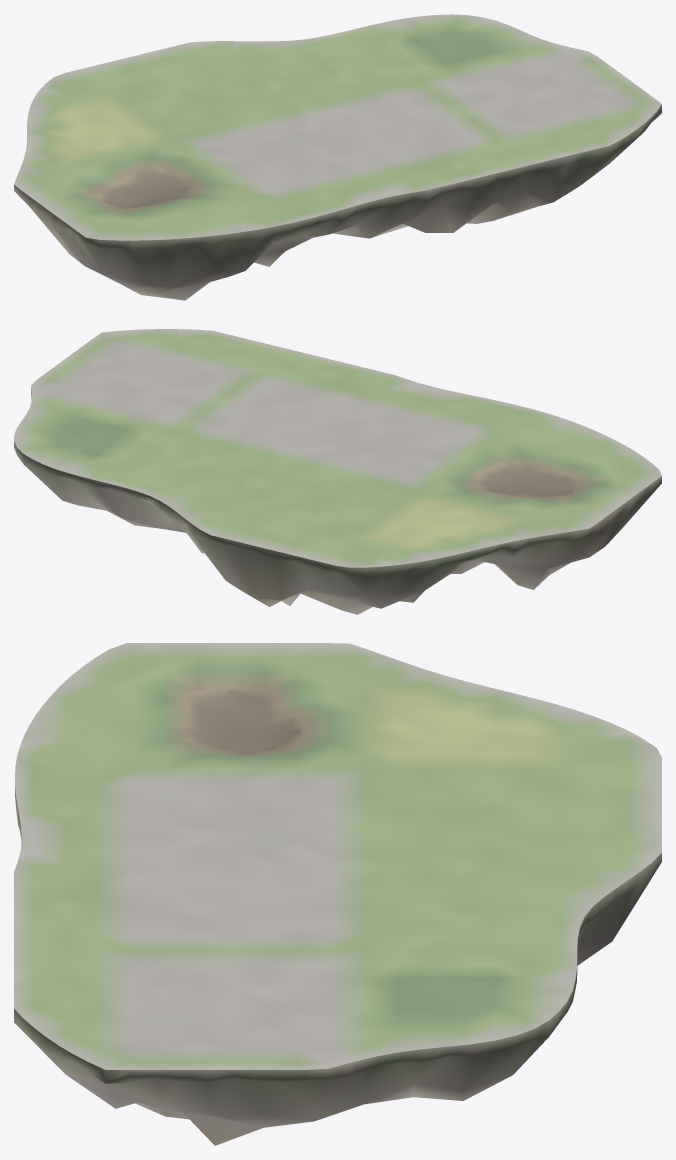
Rendered from SKY-092.rock.glb.
The picture shows the model from 3 angles, top to bottom: view 1: azimuth 30°, elevation 25°; view 2: azimuth 150°, elevation 25°; view 3: azimuth 270°, elevation 25°; orthographic projection. The views are drawn at different scales.
Parts seen in each view (by area): view 1: deck-col, rock; view 2: deck-col, rock; view 3: deck-col, rock.
Boxes of the visible parts, left/top/right/bottom form: deck-col: left=14, top=14, right=661, bottom=240; rock: left=14, top=104, right=661, bottom=300; deck-col: left=14, top=329, right=661, bottom=567; rock: left=14, top=389, right=661, bottom=614; deck-col: left=14, top=643, right=661, bottom=1069; rock: left=14, top=786, right=661, bottom=1145.
Bounding box in the file's own units: 122 × 26.79 × 78.29.
